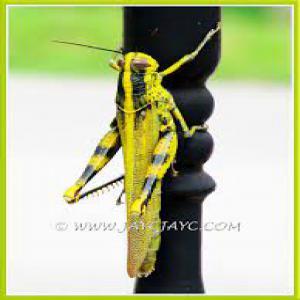locust: (65, 37, 263, 262)
